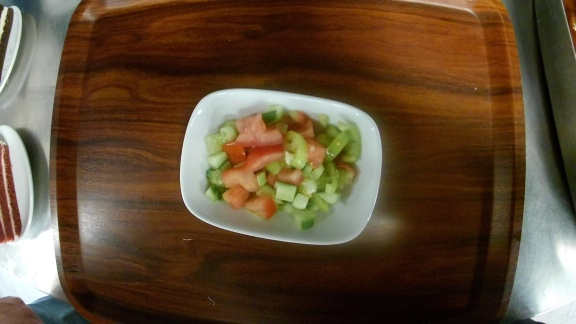cobansalata: (181, 87, 383, 246)
